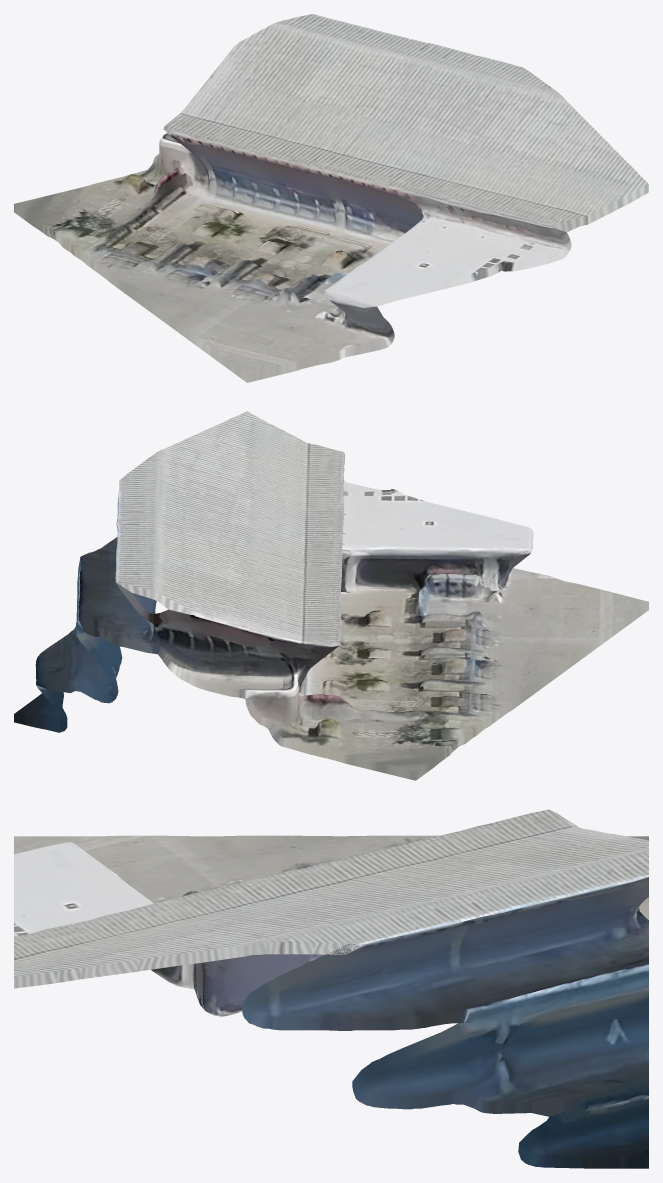
The model's file is z20-167793-405220-h0-yup-uvflip-v3-world.glb.
3 views of the same model, one above another, from view 1: azimuth 30°, elevation 25°; view 2: azimuth 150°, elevation 25°; view 3: azimuth 270°, elevation 25° (orthographic). The views are drawn at different scales.
Bounding box in the file's own units: 30.16 × 11.92 × 30.32.
Materials: 1 (1 with a texture image).
